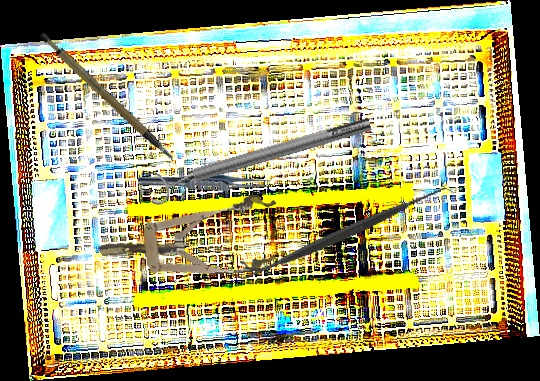Fixation Ring: (143, 107, 376, 208)
Scalpel Handle: (36, 16, 175, 180)
Spatula Surgical: (231, 120, 455, 347)
Speculum: (95, 192, 283, 288)
Tissue Forceps: (138, 174, 272, 191)
